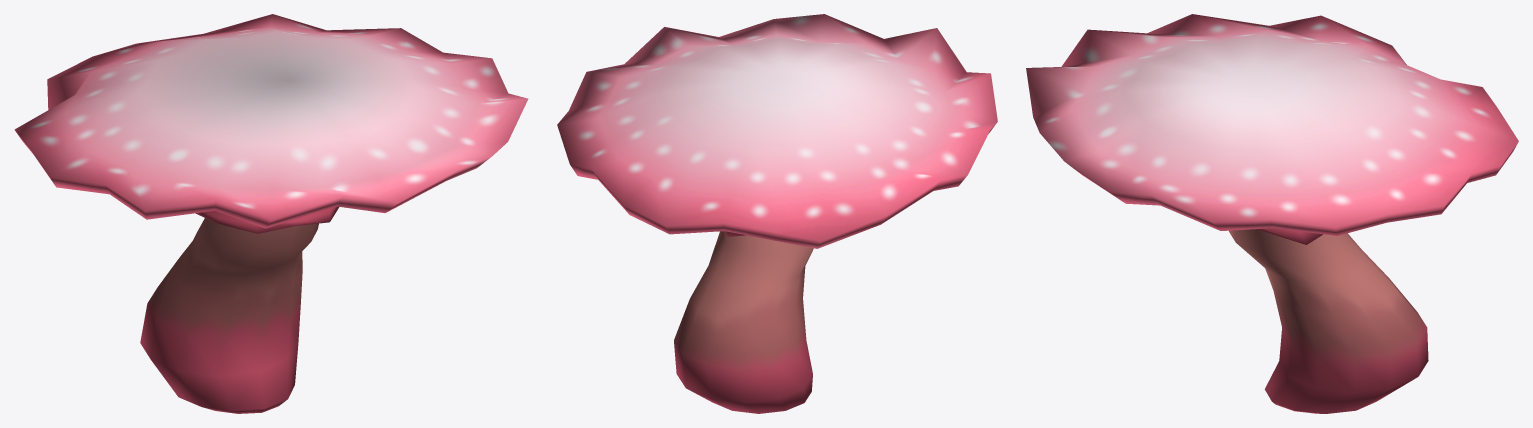
Rendered from PinkMushroon.fbx.
3 renders of one model, left to right at view 1: azimuth 30°, elevation 25°; view 2: azimuth 150°, elevation 25°; view 3: azimuth 270°, elevation 25°, orthographic. The views are drawn at different scales.
Parts seen in each view (by area): view 1: PinkMushroon; view 2: PinkMushroon; view 3: PinkMushroon.
Part boxes in pixels (left/top/right/bottom): PinkMushroon: left=14, top=14, right=528, bottom=413; PinkMushroon: left=557, top=14, right=997, bottom=413; PinkMushroon: left=1026, top=14, right=1518, bottom=413.
Bounding box in the file's own units: 148 × 108 × 151.
